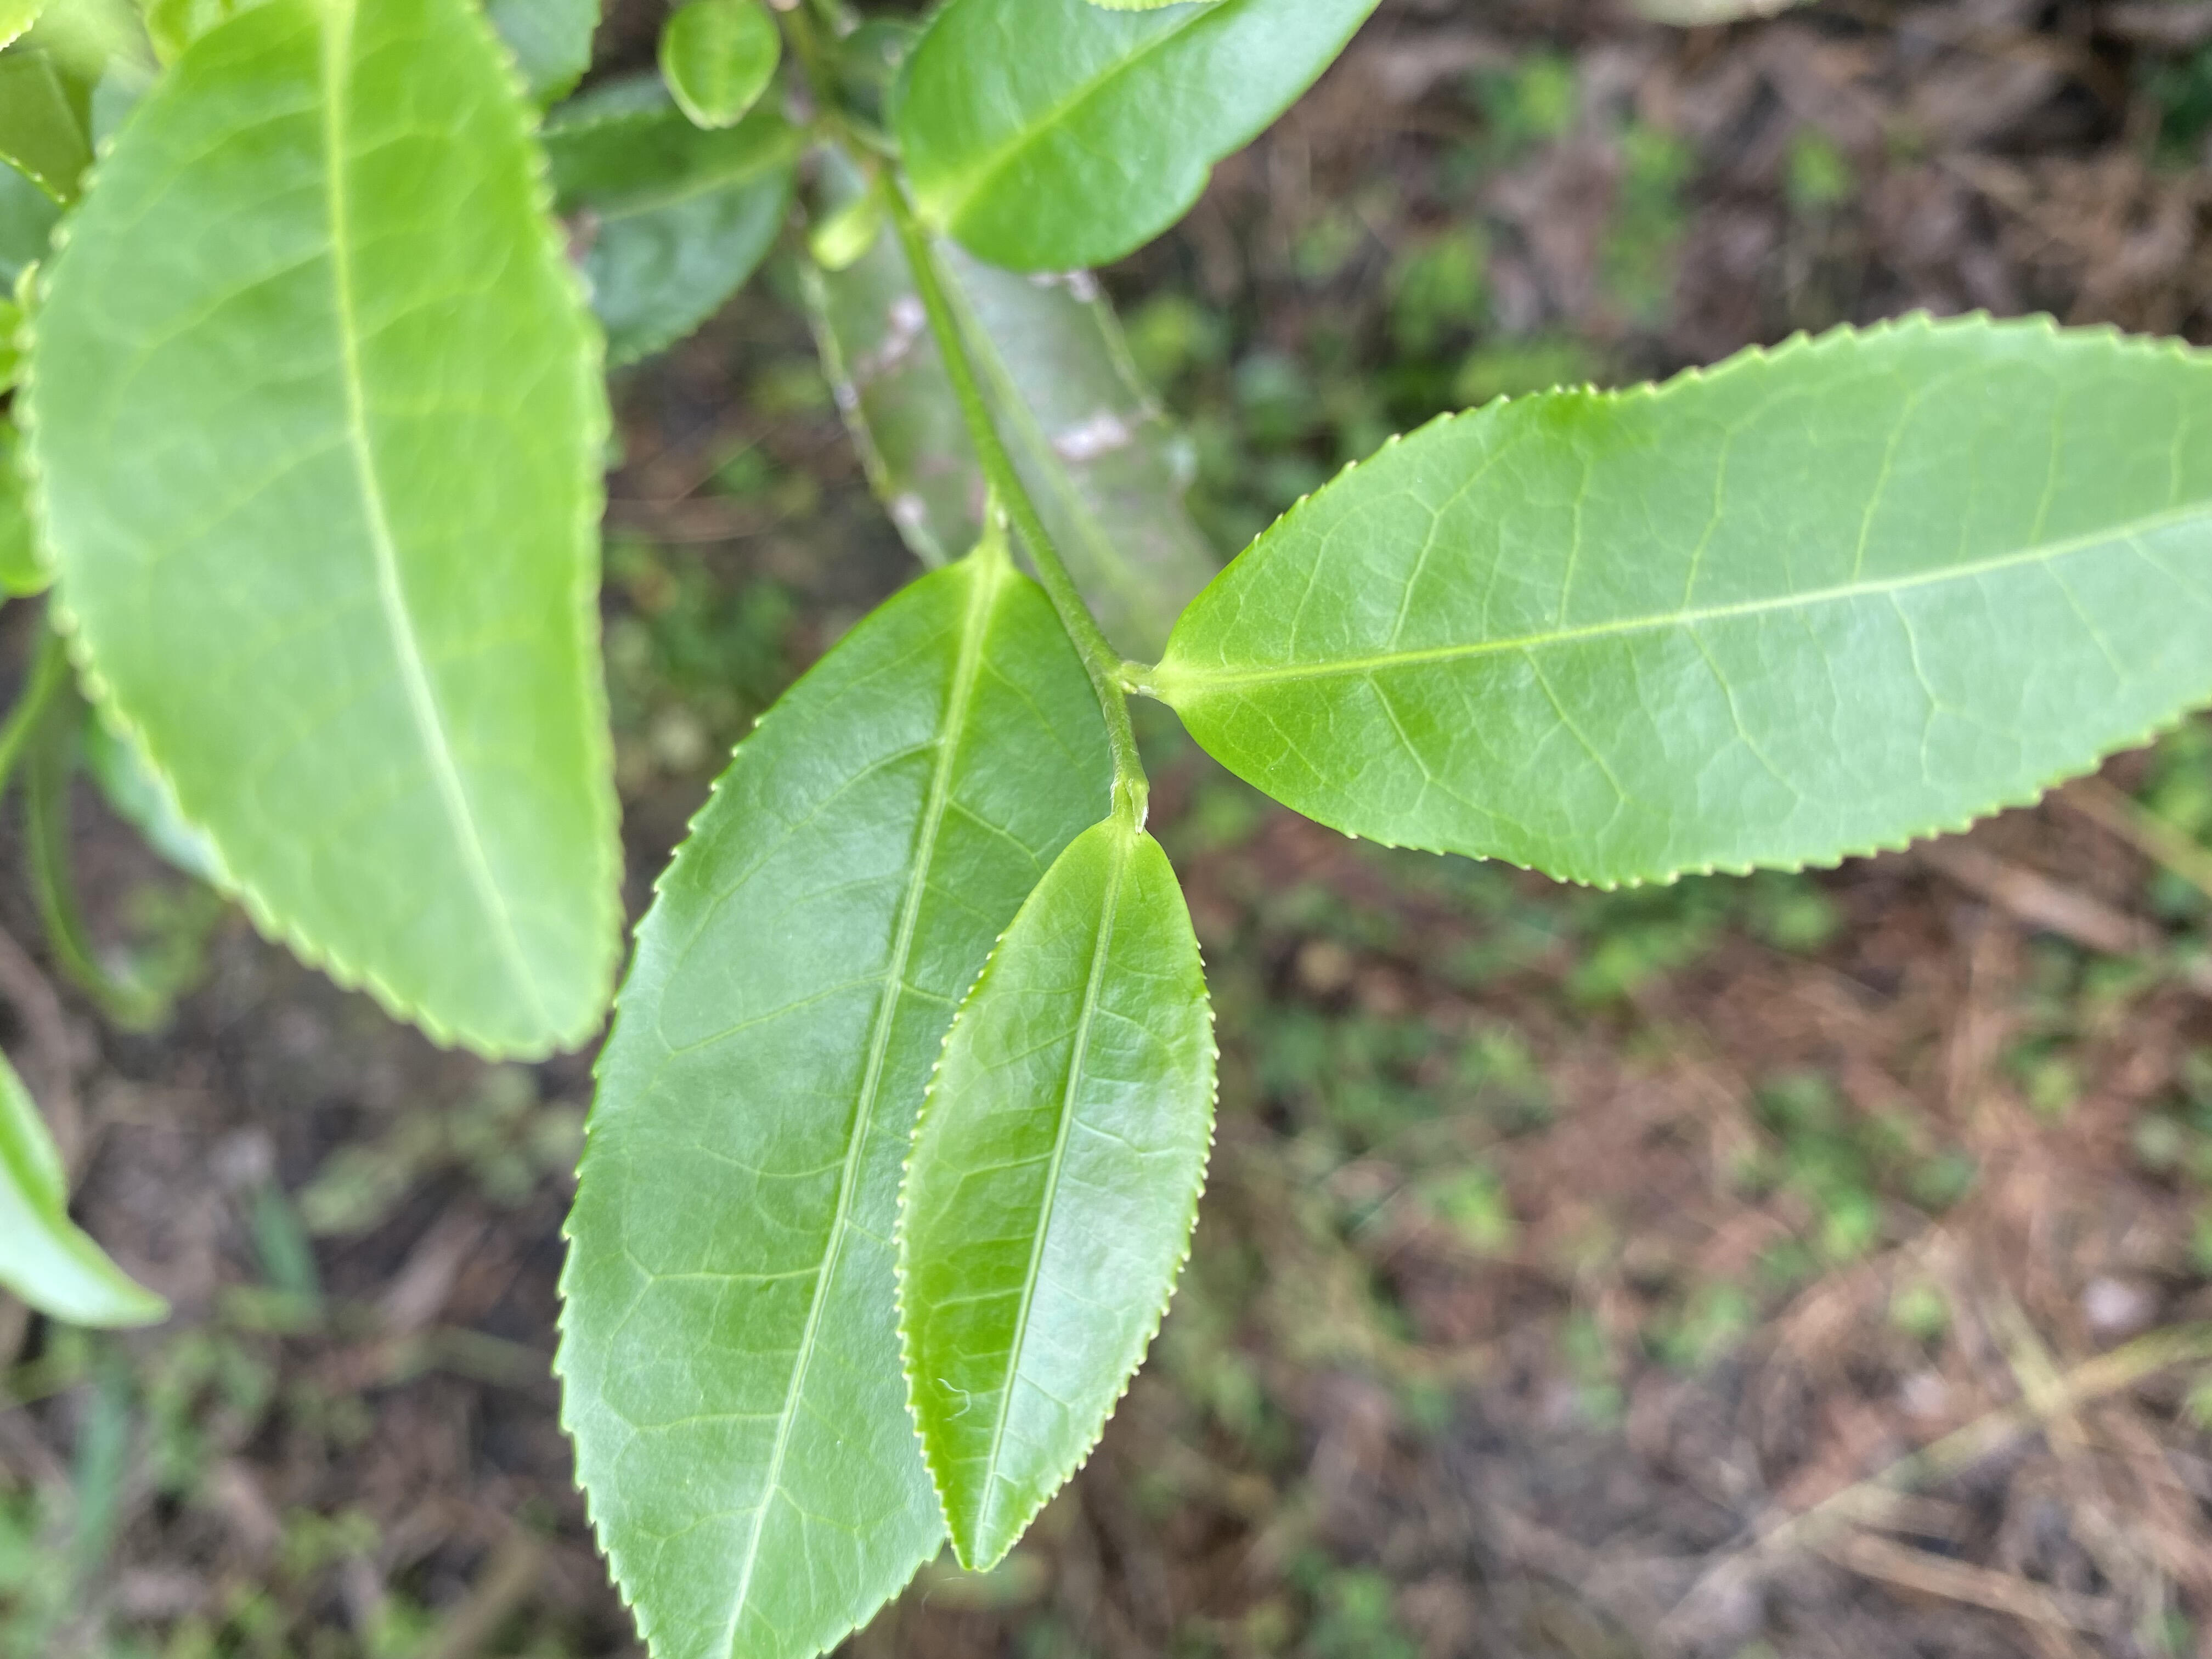healthy: (19, 2, 624, 1063), (545, 549, 1116, 1656), (1183, 308, 2209, 896), (890, 826, 1221, 1575)
